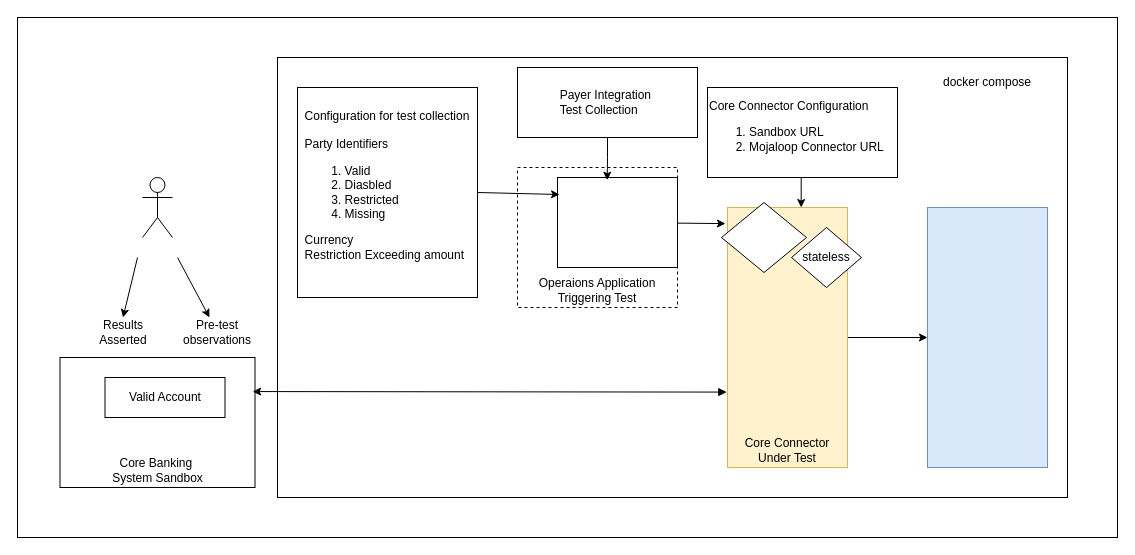
Image size: 1135x555. Some labels were removed from this diagram. Each missing label, with the centre of its shape:
"Quality Assurance" goes at point 157,207.
"synchronous" goes at point 763,237.
"TTK Simulating Mojaloop Connector and Mojaloop" goes at point 987,337.
"TTK Simulating Operations Application initiating Use case" goes at point 617,222.
